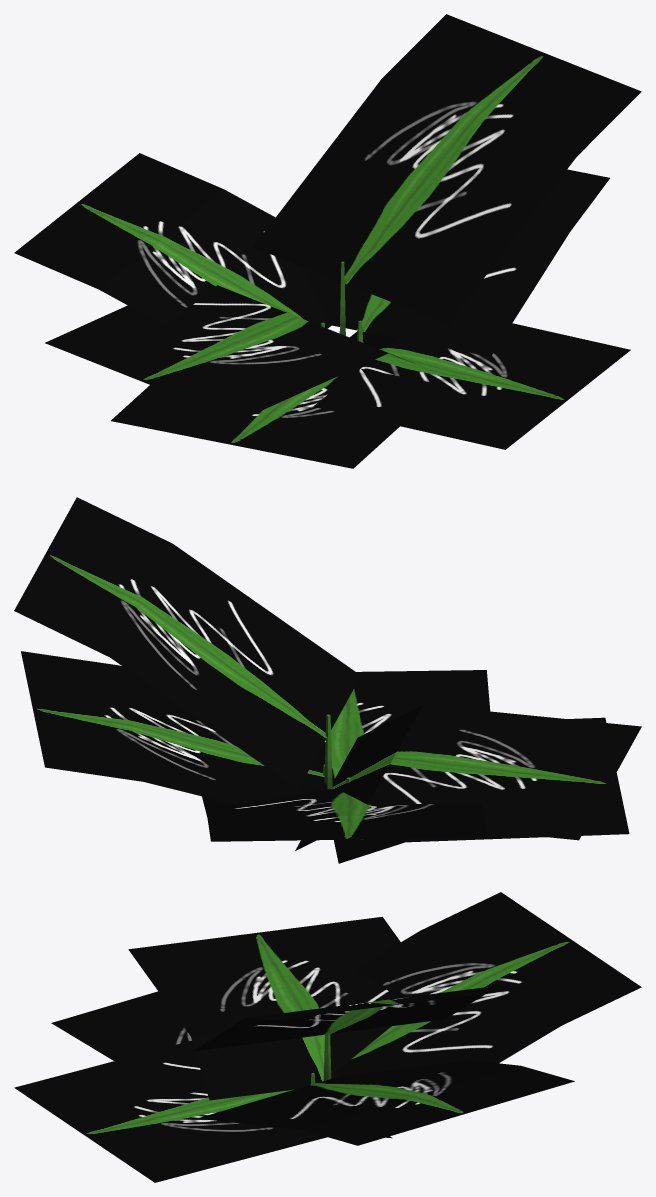
File: planta gengibre SMALL.fbx
3 views of the same model, one above another, from view 1: azimuth 30°, elevation 25°; view 2: azimuth 150°, elevation 25°; view 3: azimuth 270°, elevation 25° (orthographic). The views are drawn at different scales.
Visible parts, largest first — view 1: sprout, sprout.002, sprout.001; view 2: sprout, sprout.001, sprout.002; view 3: sprout.002, sprout, sprout.001.
Boxes of the visible parts, x1=… form: sprout: x1=45, y1=14, x2=641, y2=420; sprout.002: x1=14, y1=153, x2=630, y2=449; sprout.001: x1=111, y1=169, x2=609, y2=468; sprout: x1=14, y1=497, x2=641, y2=850; sprout.001: x1=21, y1=651, x2=629, y2=863; sprout.002: x1=202, y1=670, x2=490, y2=841; sprout.002: x1=14, y1=892, x2=641, y2=1182; sprout: x1=128, y1=916, x2=526, y2=1100; sprout.001: x1=51, y1=991, x2=574, y2=1145.
Size of the model in its own units: 261 by 105 by 259.
